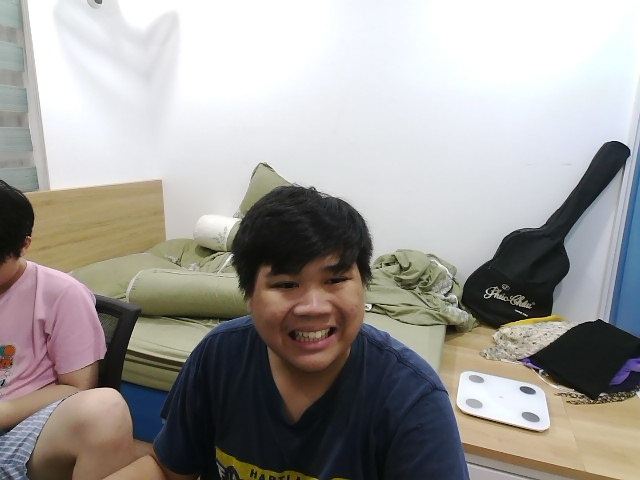face: (233, 184, 373, 372)
